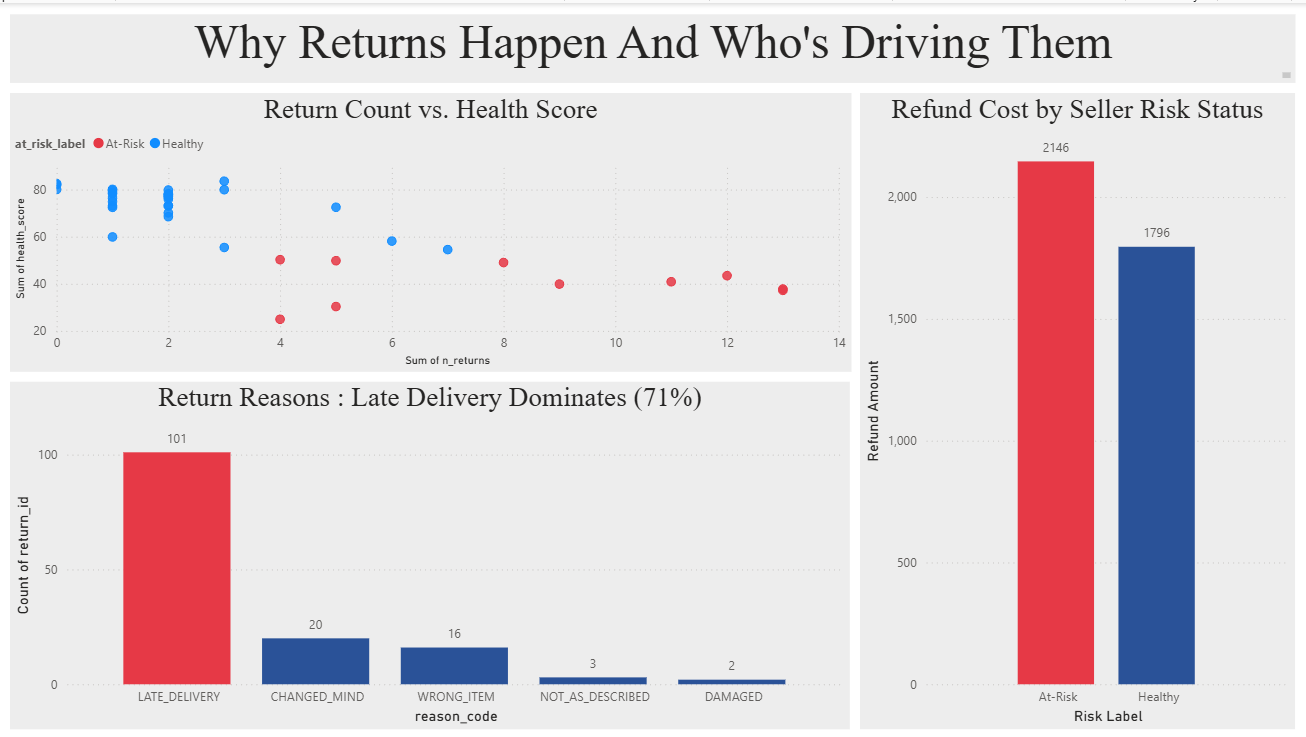

The dashboard page shown, as its layout file describes it:
{"tool":"powerbi","page":{"name":"Returns","canvas":[1280,720],"ordinal":2},"visuals":[{"type":"textbox","title":"Why Returns Happen  And Who''s Driving Them","box":[9.2,10.5,1257.9,67.1],"z":0},{"type":"clusteredColumnChart","title":"Return Reasons : Late Delivery Dominates (71%)","fields":{"Category":["returns_refunds_clean.reason_code"],"Y":["CountNonNull(returns_refunds_clean.return_id)"]},"box":[9.8,370.5,821.7,339.9],"z":1000},{"type":"clusteredColumnChart","title":"Refund Cost by Seller Risk Status","fields":{"Y":["Sum(returns_with_risk.refund_amount)"],"Category":["returns_with_risk.at_risk_label"]},"box":[841.3,88,425.5,622.4],"z":2000},{"type":"scatterChart","title":"Return Count vs. Health Score","fields":{"X":["Sum(seller_health_score (2).n_returns)"],"Y":["Sum(seller_health_score (2).health_score)"],"Series":["seller_health_score (2).at_risk_label"],"Category":["seller_health_score (2).seller_id"]},"box":[9.8,88,823,272.7],"z":3000}]}

Visuals, with their boxes in screenshot pixels (x1, y1, x2, y2), scaled from the page's 1280x720 canvas onto the 1306x737 screenshot:
"Why Returns Happen  And Who''s Driving Them" textbox: Rect(9, 11, 1293, 79)
"Return Reasons : Late Delivery Dominates (71%)" clusteredColumnChart: Rect(10, 379, 848, 727)
"Refund Cost by Seller Risk Status" clusteredColumnChart: Rect(858, 90, 1293, 727)
"Return Count vs. Health Score" scatterChart: Rect(10, 90, 850, 369)
